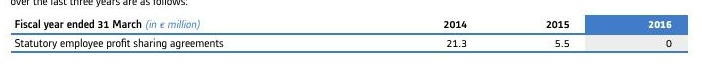table: (0, 0, 702, 67)
